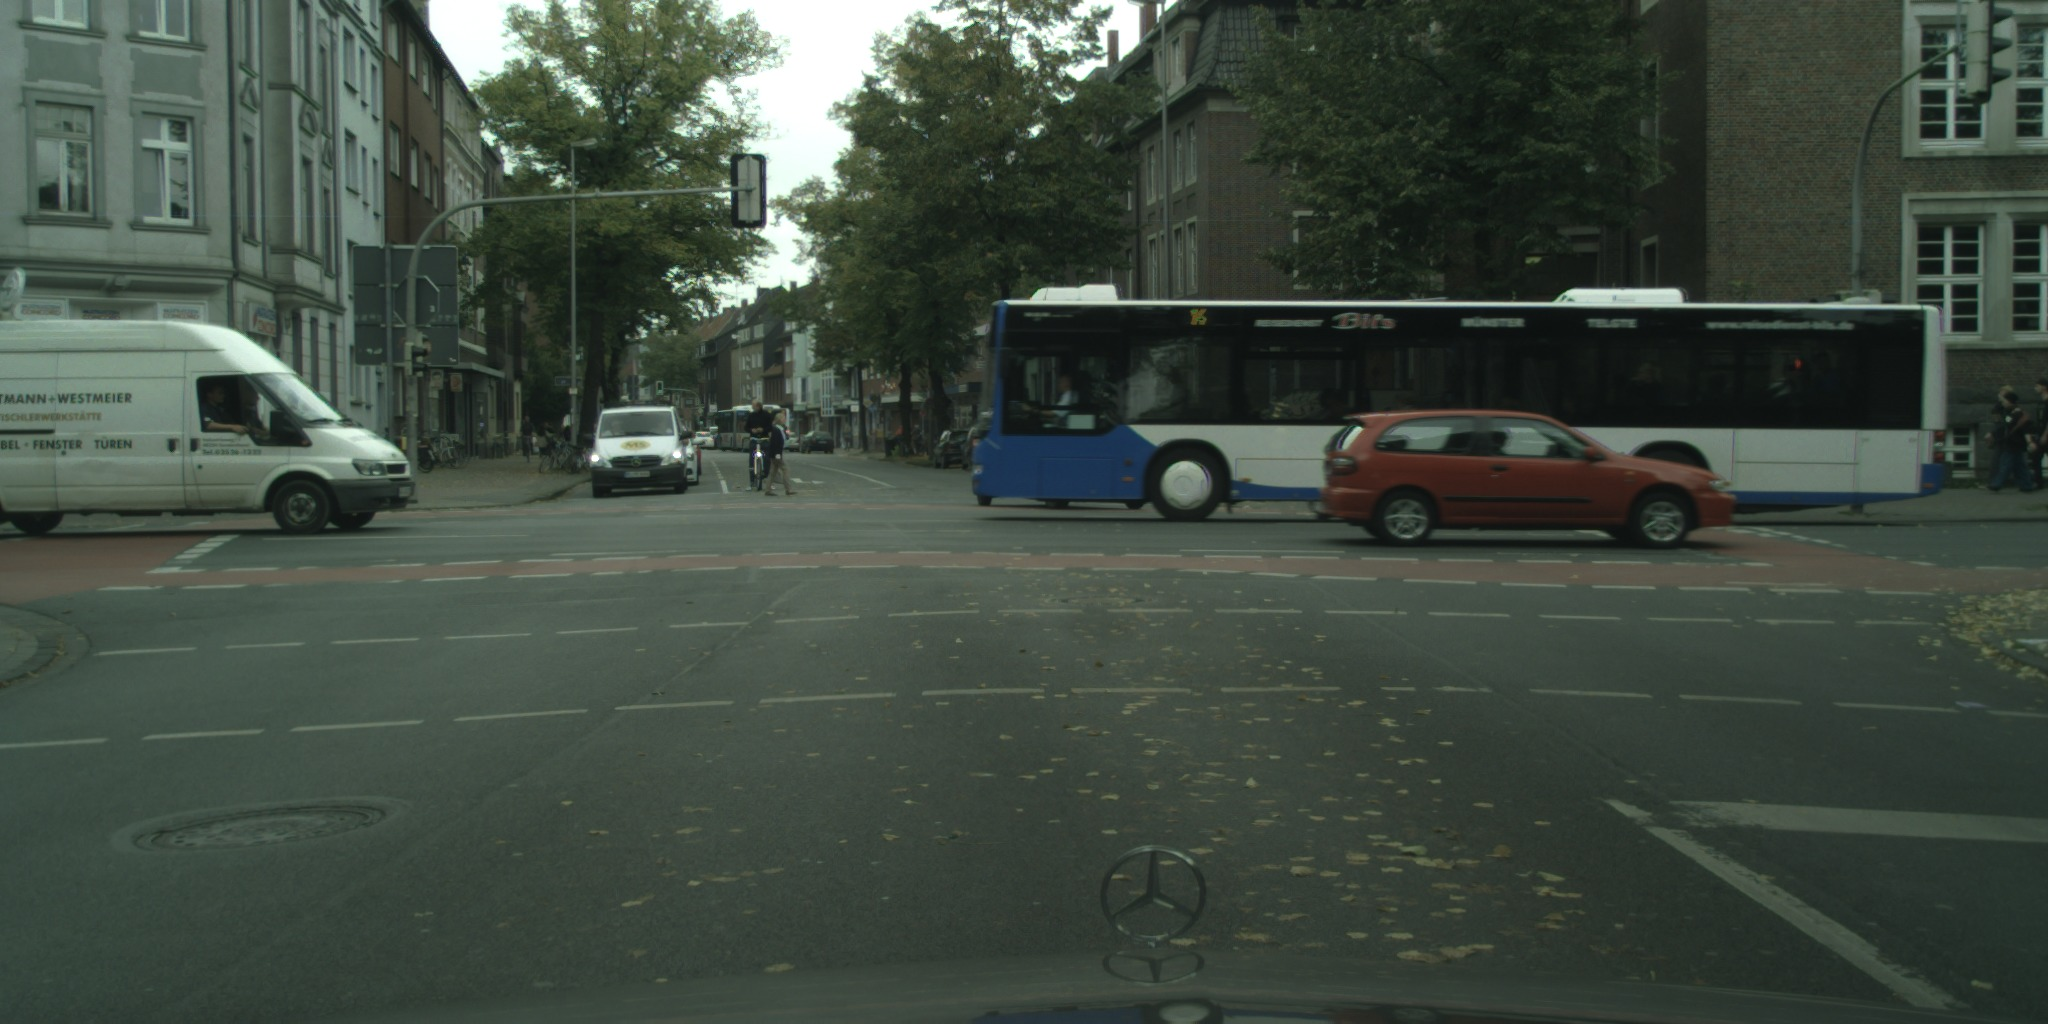bicycle: (377, 431, 435, 474), (741, 432, 770, 492), (539, 441, 574, 473), (563, 446, 595, 474), (517, 433, 535, 464)
bus: (970, 282, 1945, 521), (714, 405, 790, 453)
car: (0, 319, 416, 535), (1317, 410, 1737, 550), (583, 401, 691, 497), (975, 481, 1146, 510), (959, 417, 997, 470), (930, 427, 974, 468), (673, 425, 701, 477), (675, 422, 697, 485), (797, 430, 835, 455), (779, 430, 801, 452), (691, 431, 716, 448)
person: (1983, 389, 2040, 492), (1987, 384, 2020, 488), (760, 411, 797, 500), (2024, 375, 2048, 491), (535, 419, 555, 460)
rider: (743, 397, 773, 491), (521, 414, 535, 456)
